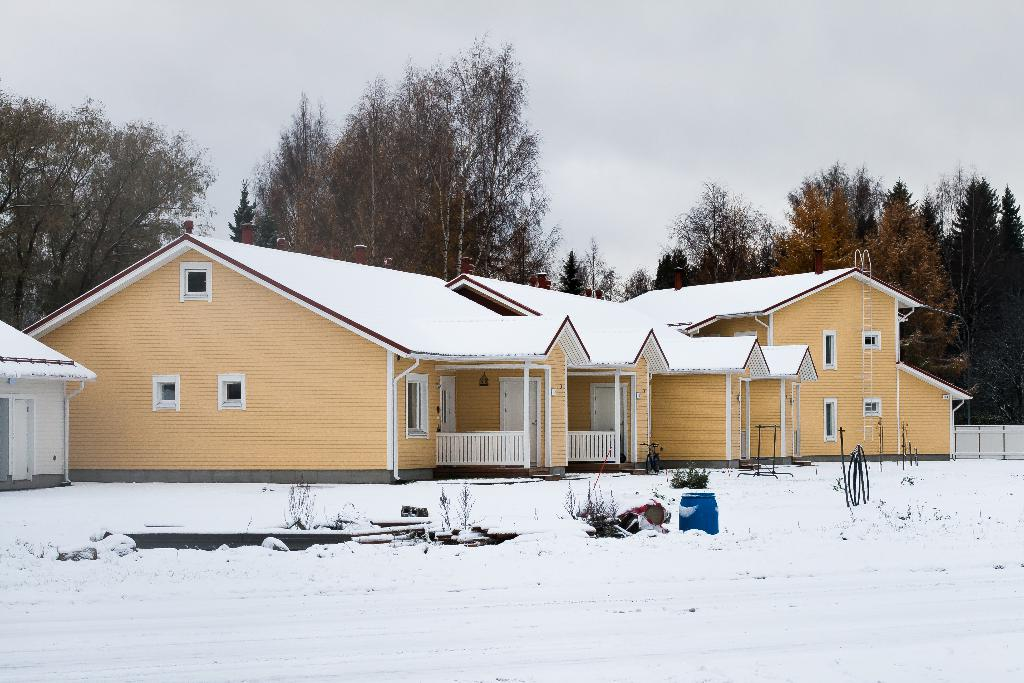Tree: (0, 28, 1024, 424)
